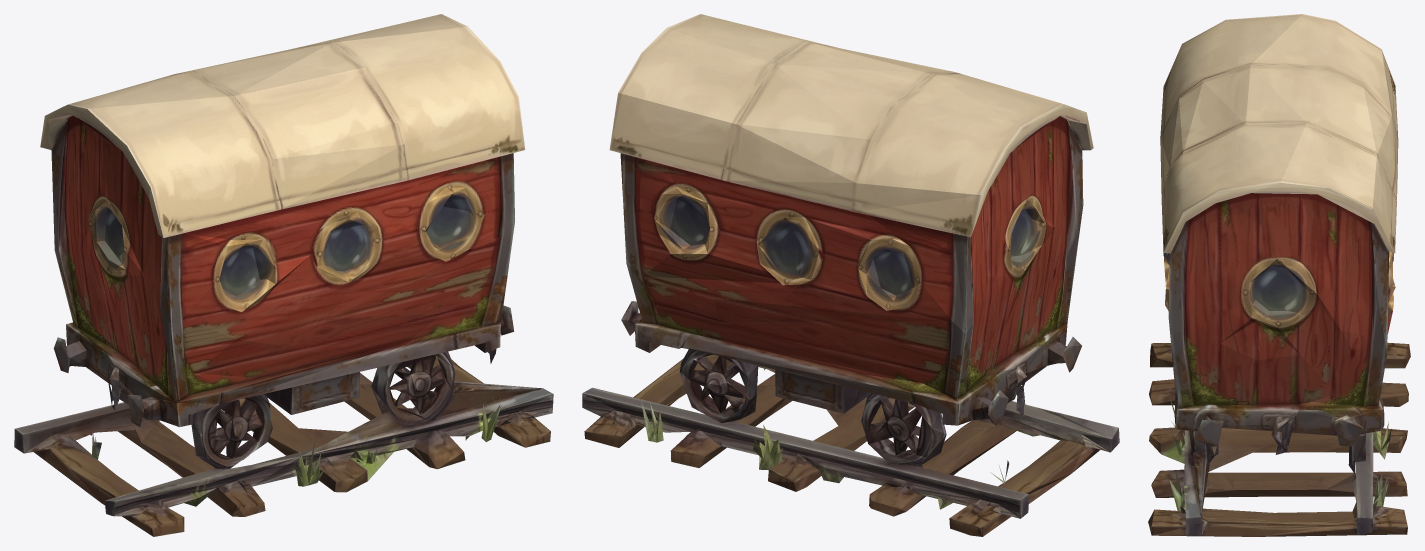
The model's file is meshy.glb.
3 views of the same model, side by side, from view 1: azimuth 30°, elevation 25°; view 2: azimuth 150°, elevation 25°; view 3: azimuth 270°, elevation 25° (orthographic). The views are drawn at different scales.
Bounding box in the file's own units: 1.89 × 1.52 × 1.04.
1 material, 1 textured.
